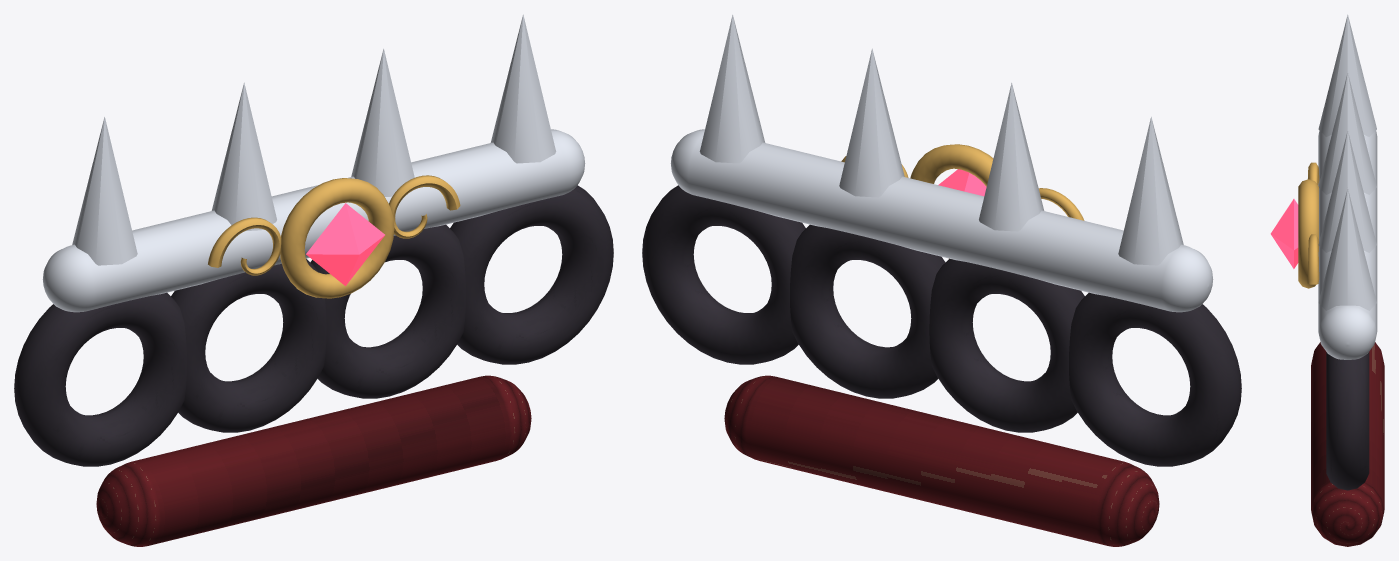
Rendered from knuckles.glb.
3 views of the same model, side by side, from view 1: azimuth 30°, elevation 25°; view 2: azimuth 150°, elevation 25°; view 3: azimuth 270°, elevation 25° (orthographic). The views are drawn at different scales.
Parts seen in each view (by area): view 1: fingerRings, spikedBar, palmGrip, gemSetting, gem; view 2: fingerRings, spikedBar, palmGrip, gemSetting, gem; view 3: spikedBar, palmGrip, fingerRings, gemSetting, gem.
Boxes of the visible parts, left/top/right/bottom form: fingerRings: left=14, top=185, right=613, bottom=466; spikedBar: left=42, top=14, right=585, bottom=312; palmGrip: left=96, top=375, right=531, bottom=546; gemSetting: left=208, top=175, right=460, bottom=298; gem: left=306, top=203, right=384, bottom=285; fingerRings: left=642, top=185, right=1241, bottom=466; spikedBar: left=670, top=14, right=1213, bottom=312; palmGrip: left=724, top=375, right=1159, bottom=546; gemSetting: left=841, top=144, right=1084, bottom=220; gem: left=938, top=169, right=986, bottom=196; spikedBar: left=1318, top=14, right=1377, bottom=359; palmGrip: left=1311, top=342, right=1384, bottom=546; fingerRings: left=1326, top=352, right=1369, bottom=490; gemSetting: left=1298, top=162, right=1319, bottom=288; gem: left=1270, top=199, right=1298, bottom=268.
Size of the model in its own units: 1.19 by 0.835 by 0.233.
Materials: 5 (2 with a texture image).
